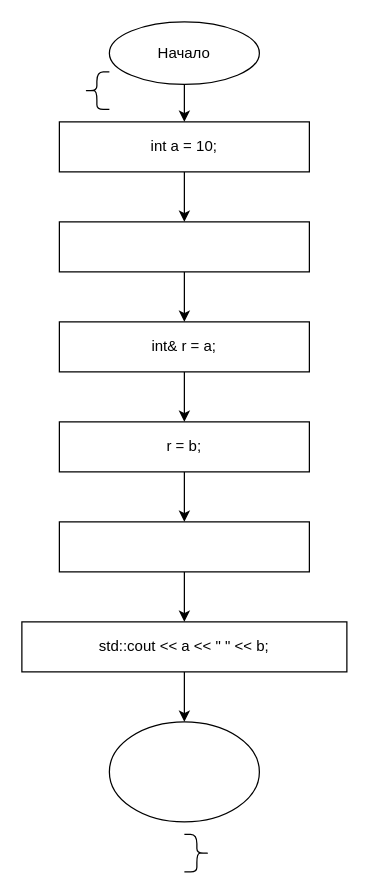
The diagram is 369 pixels wide and 894 high, and some of its shapes have lost their labels. The shapes that lost their labels are listed below. From the top down, each one's centre as x and y in pixels, then its label:
point (183, 246): int b = 20;
point (183, 546): r++;
point (183, 771): return 0;
